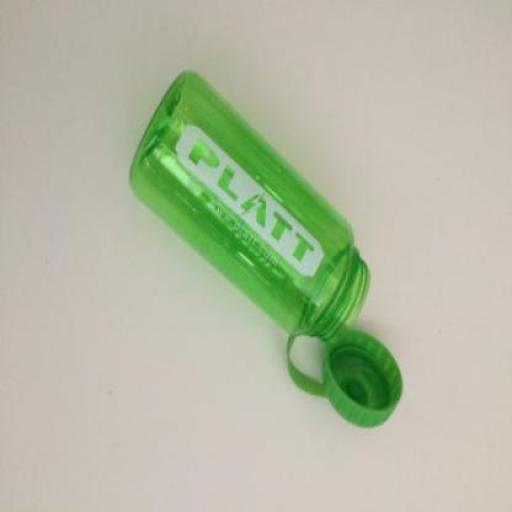plastic: (130, 76, 372, 344), (286, 244, 404, 428)
